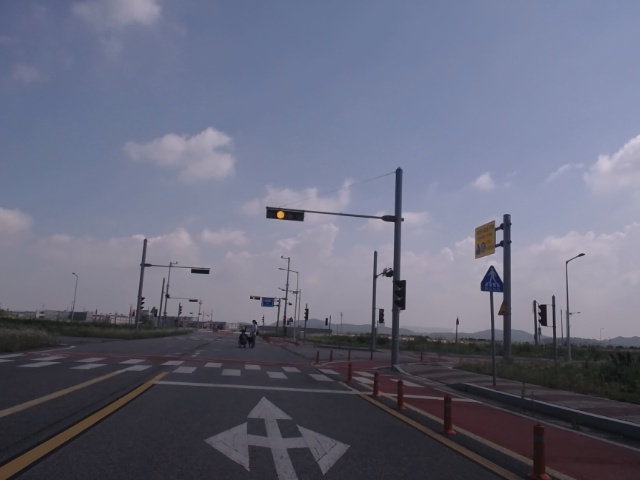orange_4: (267, 208, 304, 220)
